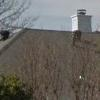Chimney: (65, 3, 92, 37)
